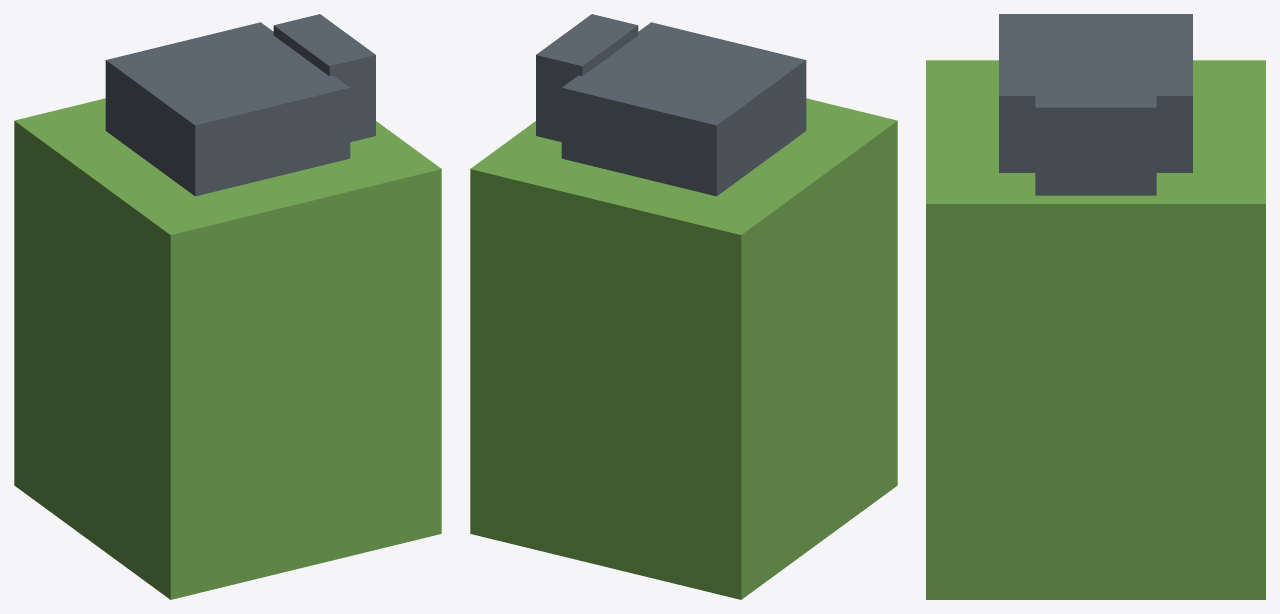
File: grenade.gltf
The picture shows the model from 3 angles, left to right: view 1: azimuth 30°, elevation 25°; view 2: azimuth 150°, elevation 25°; view 3: azimuth 270°, elevation 25°; orthographic projection. The views are drawn at different scales.
Bounding box in the file's own units: 0.14 × 0.22 × 0.14.
